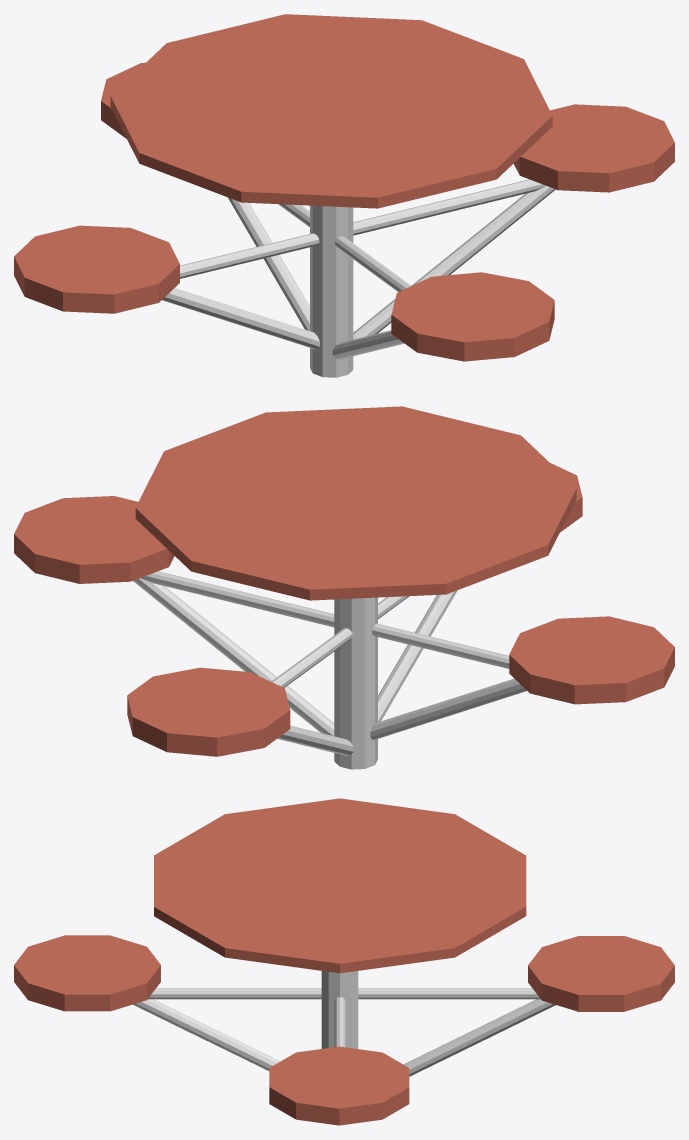
File: table2new.fbx
3 views of the same model, one above another, from view 1: azimuth 30°, elevation 25°; view 2: azimuth 150°, elevation 25°; view 3: azimuth 270°, elevation 25° (orthographic). The views are drawn at different scales.
Parts seen in each view (by area): view 1: table2; view 2: table2; view 3: table2.
Part boxes in pixels (x1,y1,x2,y2): table2: [14, 14, 674, 377]; table2: [14, 406, 674, 769]; table2: [14, 798, 674, 1125].
Size of the model in its own units: 258 by 101 by 262.
